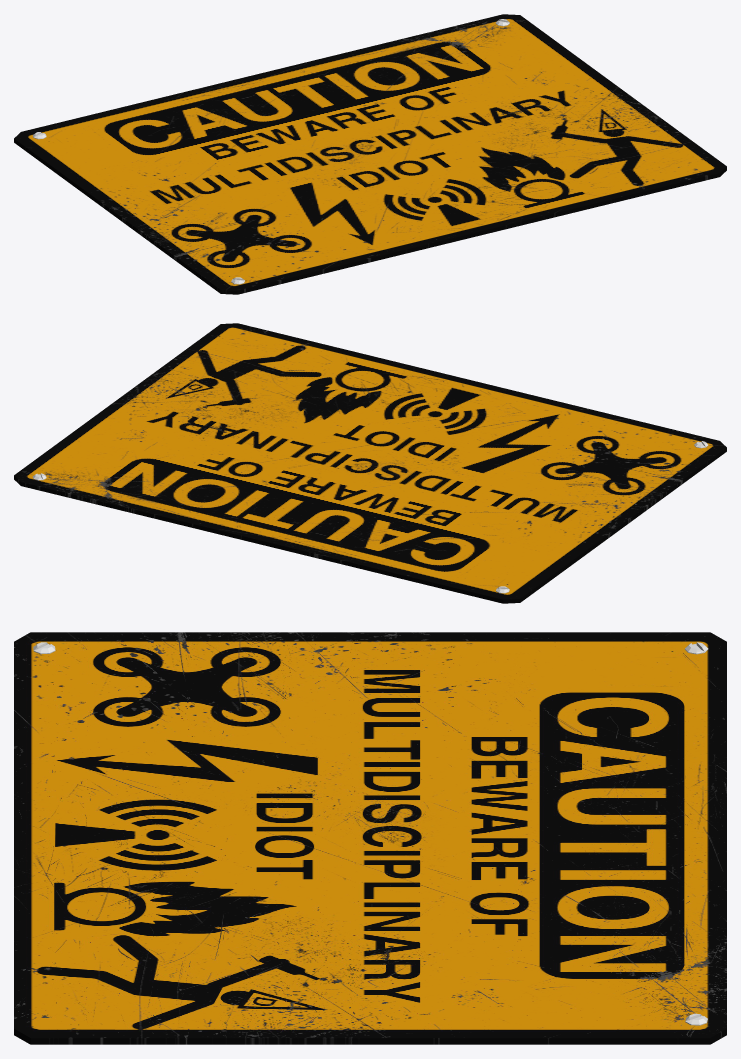
Rendered from multi_sign.fbx.
3 views of the same model, one above another, from view 1: azimuth 30°, elevation 25°; view 2: azimuth 150°, elevation 25°; view 3: azimuth 270°, elevation 25° (orthographic). The views are drawn at different scales.
Visible parts, largest first — view 1: sign; view 2: sign; view 3: sign.
Part boxes in pixels (box(x1,y1,x2,y2)): sign: box(14, 14, 726, 294); sign: box(14, 323, 726, 603); sign: box(14, 632, 726, 1044).
Size of the model in its own units: 498 by 6.09 by 369.
